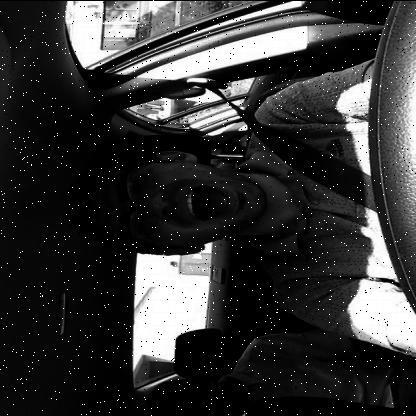seatbelt: (55, 67, 384, 262)
